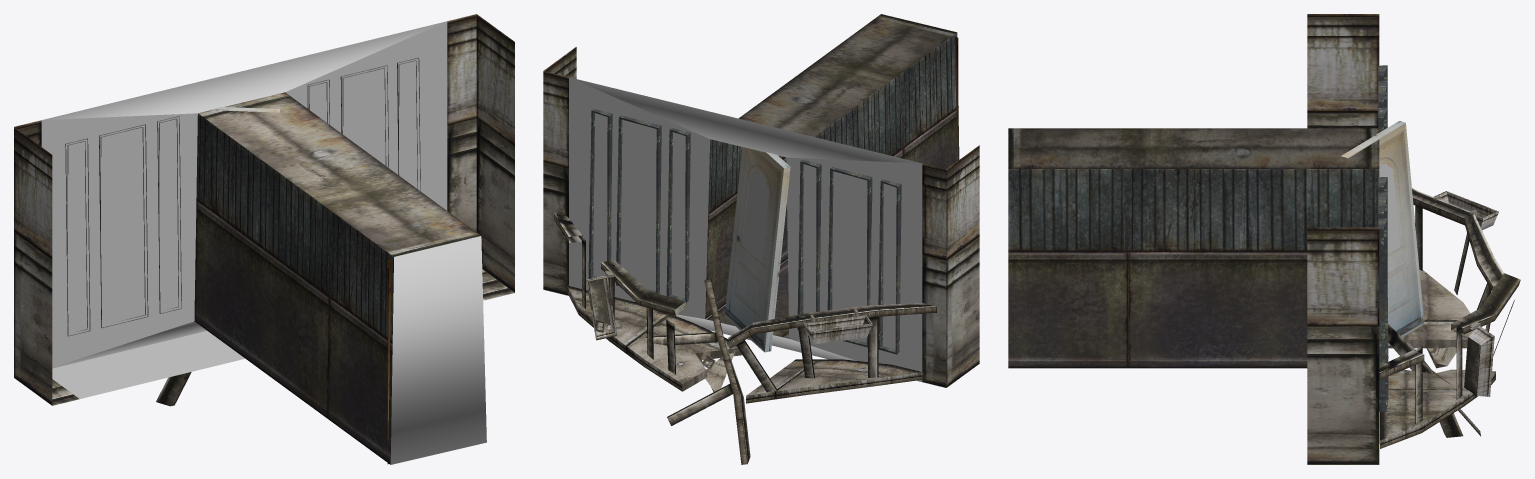
File: Store_front_11_B.fbx
The picture shows the model from 3 angles, left to right: view 1: azimuth 30°, elevation 25°; view 2: azimuth 150°, elevation 25°; view 3: azimuth 270°, elevation 25°; orthographic projection. The views are drawn at different scales.
Visible parts, largest first — view 1: Store_front_11_B; view 2: Store_front_11_B; view 3: Store_front_11_B.
Part boxes in pixels (<box>): Store_front_11_B: <box>14,14,514,464</box>; Store_front_11_B: <box>543,14,979,464</box>; Store_front_11_B: <box>1008,14,1520,464</box>.
Bounding box in the file's own units: 700 × 511 × 710.
